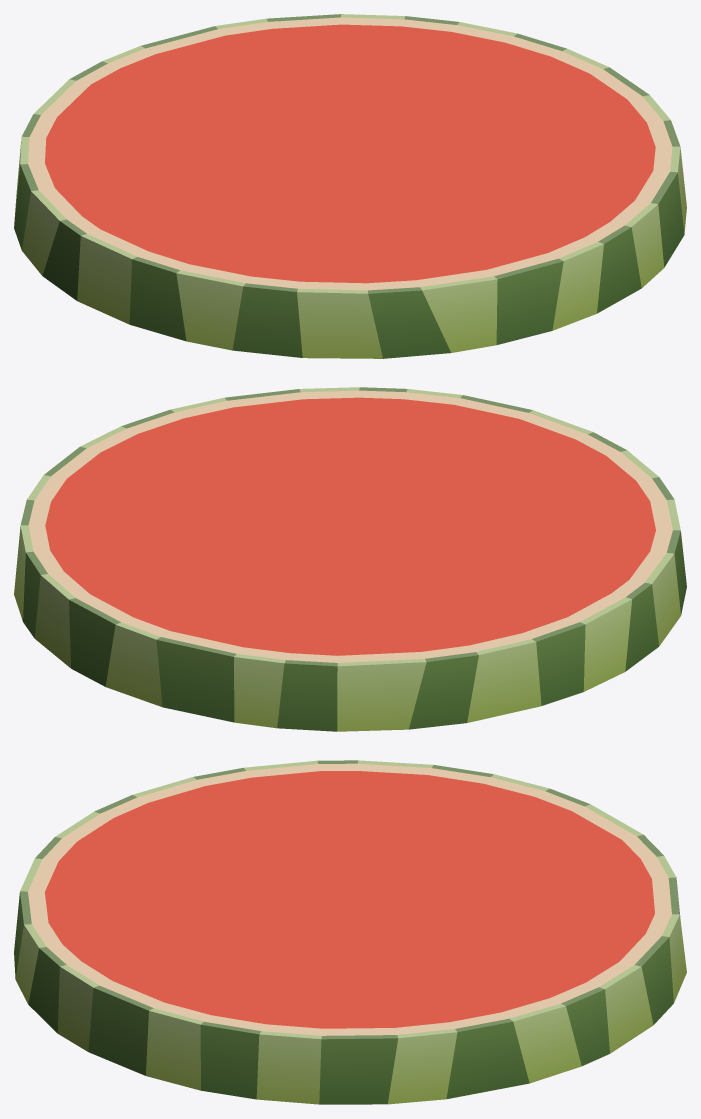
Rendered from SM_Food_Watermelon_Slice.fbx.
3 renders of one model, top to bottom at view 1: azimuth 30°, elevation 25°; view 2: azimuth 150°, elevation 25°; view 3: azimuth 270°, elevation 25°, orthographic.
Parts seen in each view (by area): view 1: SM_Food_Watermelon_Slice; view 2: SM_Food_Watermelon_Slice; view 3: SM_Food_Watermelon_Slice.
Part boxes in pixels (x1=…): SM_Food_Watermelon_Slice: x1=14, y1=14, x2=686, y2=358; SM_Food_Watermelon_Slice: x1=14, y1=387, x2=686, y2=731; SM_Food_Watermelon_Slice: x1=14, y1=760, x2=686, y2=1104.
Size of the model in its own units: 28.24 by 2.91 by 28.29.
